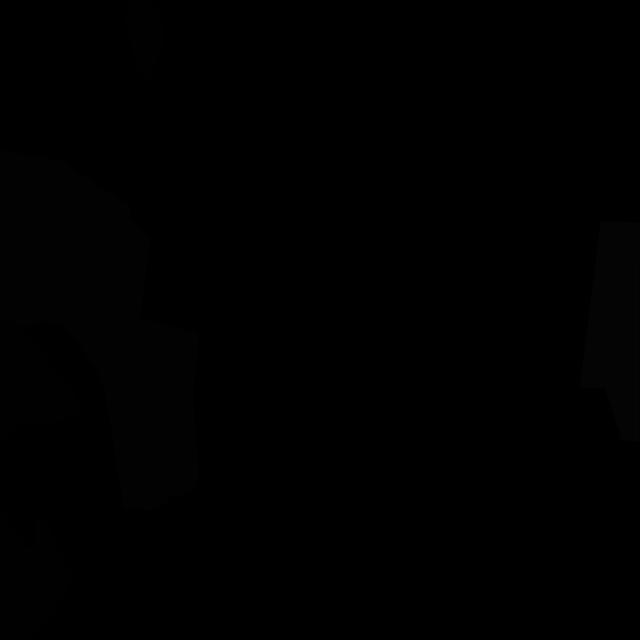cardboard: (44, 308, 199, 511), (0, 150, 150, 326)
rigid_plastic: (0, 320, 80, 640), (124, 0, 165, 84)
soft_plastic: (580, 221, 640, 442)
